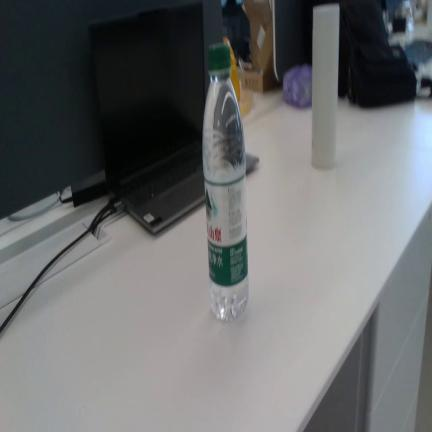bottle: (202, 43, 248, 321)
